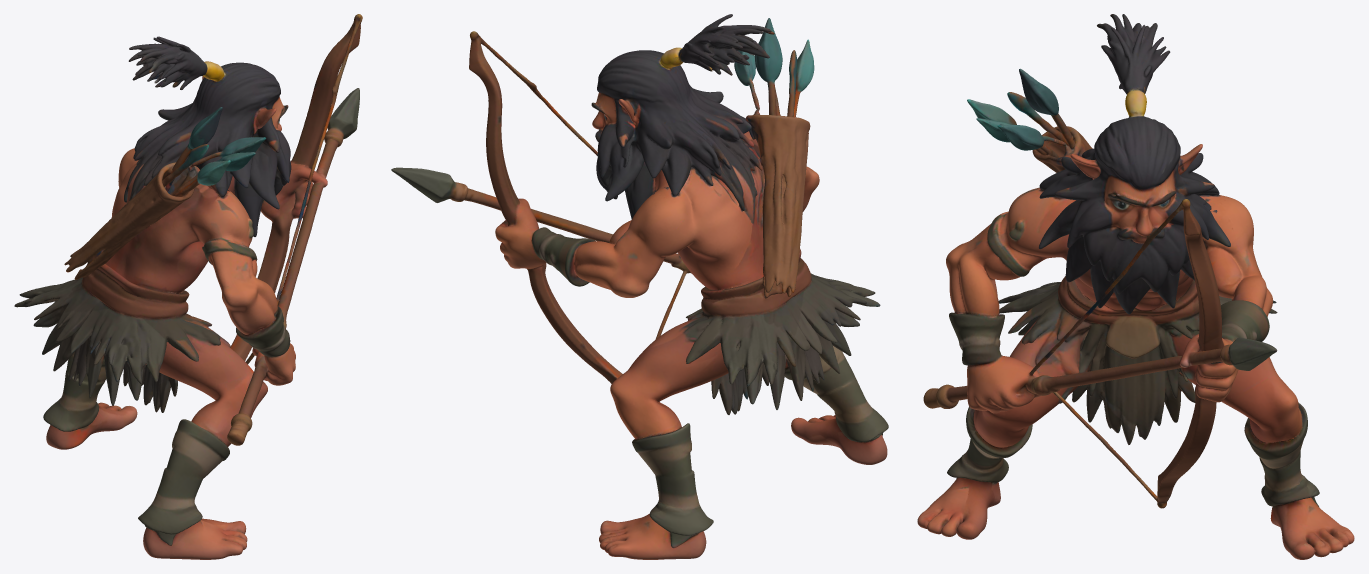
Rendered from wilderness_hunter 2.glb.
The picture shows the model from 3 angles, left to right: view 1: azimuth 30°, elevation 25°; view 2: azimuth 150°, elevation 25°; view 3: azimuth 270°, elevation 25°; orthographic projection. The views are drawn at different scales.
Parts seen in each view (by area): view 1: tripo_node_be36d388-e503-478f-b3e3-7c39e42a2add; view 2: tripo_node_be36d388-e503-478f-b3e3-7c39e42a2add; view 3: tripo_node_be36d388-e503-478f-b3e3-7c39e42a2add.
Part boxes in pixels (x1=…): tripo_node_be36d388-e503-478f-b3e3-7c39e42a2add: x1=14, y1=14, x2=362, y2=559; tripo_node_be36d388-e503-478f-b3e3-7c39e42a2add: x1=391, y1=14, x2=888, y2=559; tripo_node_be36d388-e503-478f-b3e3-7c39e42a2add: x1=917, y1=14, x2=1354, y2=559.
Size of the model in its own units: 0.832 by 1 by 0.7667.
Materials: 1 (1 with a texture image).
